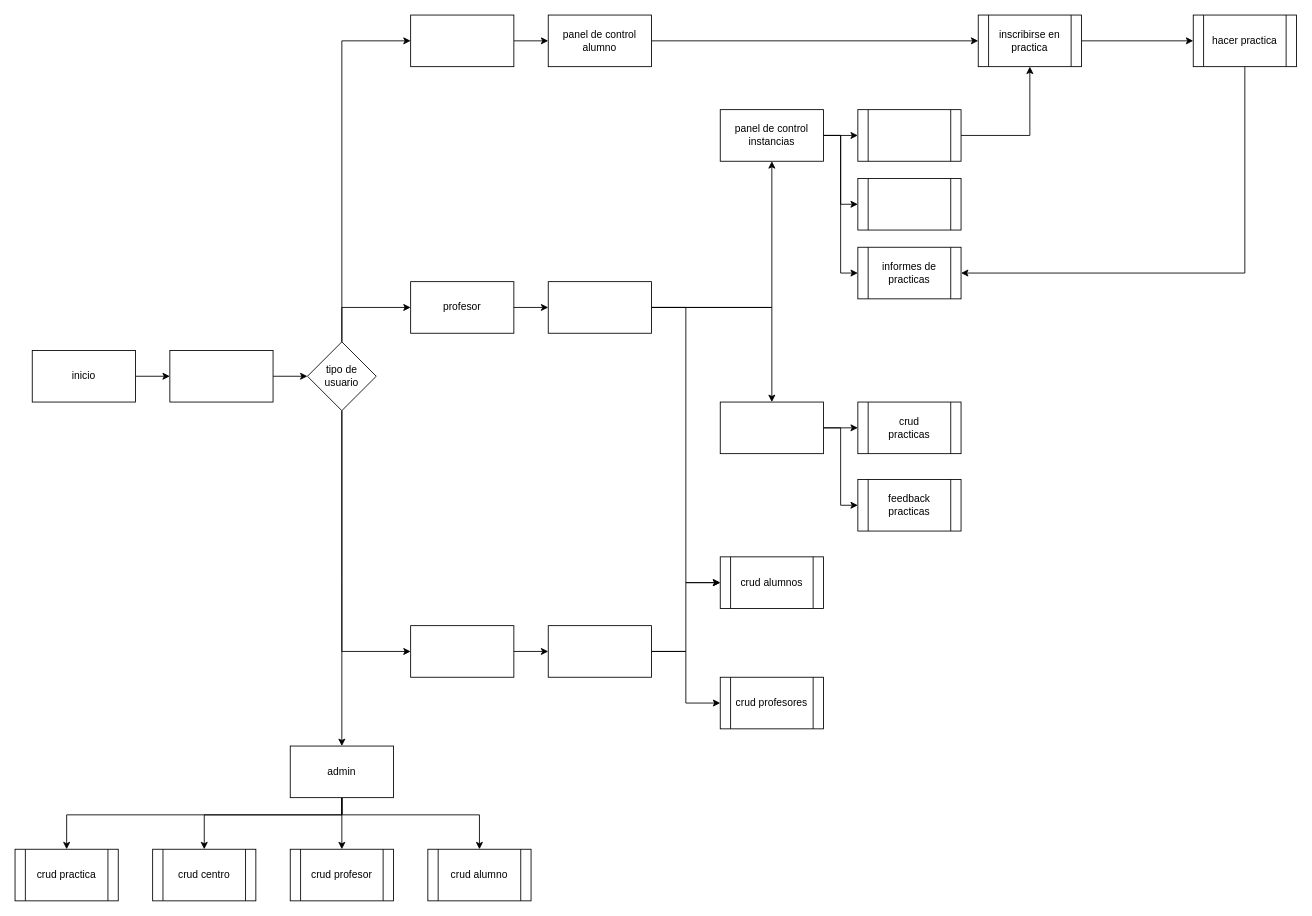
This 1312x916 diagram has some shape labels left out. Each missing label, with the centre of its shape:
"alumno" belongs at (462,40).
"centro" belongs at (462,651).
"crud instancia" belongs at (909,204).
"enviar invitaciones" belongs at (909,135).
"login" belongs at (221,376).
"panel de control centro" belongs at (599,651).
"panel de control practicas" belongs at (771,427).
"panel de control profesor" belongs at (599,307).
